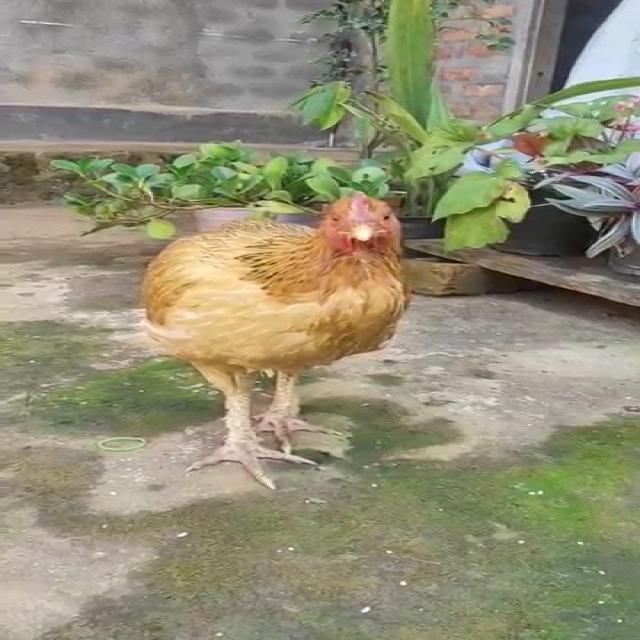Breathing: (140, 189, 416, 490)
